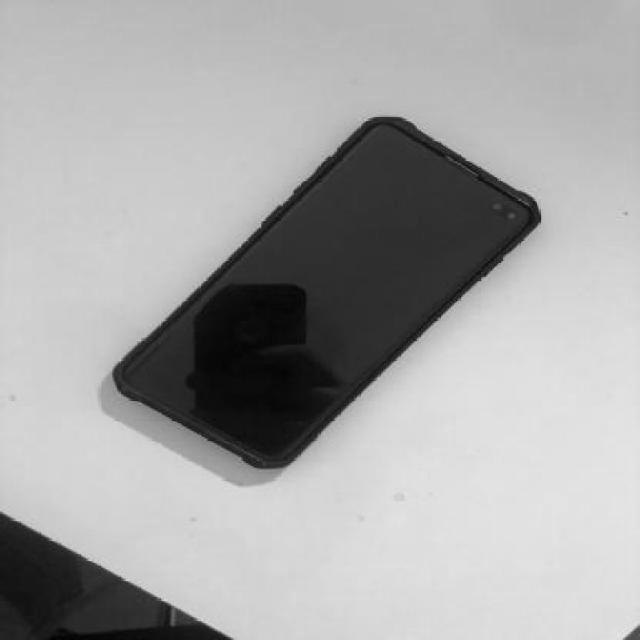fake: (113, 118, 541, 472)
